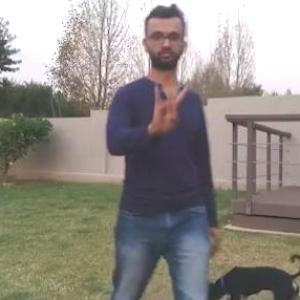takeoff-hand: (147, 74, 192, 138)
